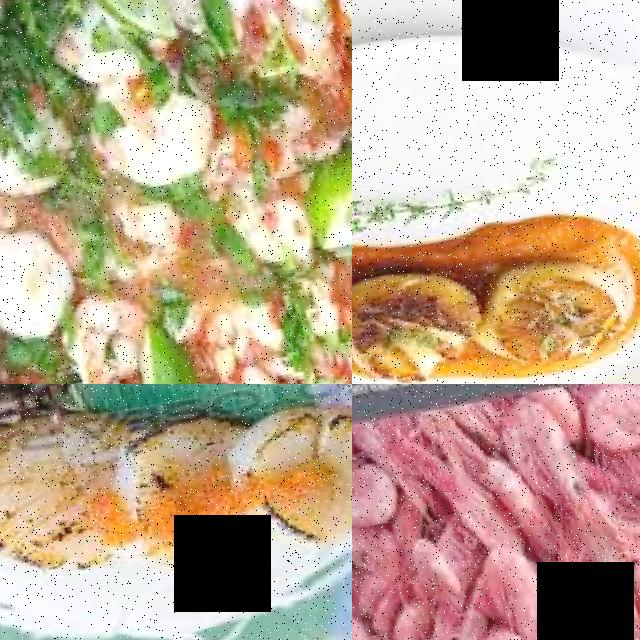lemon: (293, 139, 352, 252), (61, 0, 175, 55), (120, 316, 200, 384)
sea scallops: (474, 240, 637, 372)
shrimp: (490, 384, 594, 517), (472, 540, 549, 634), (521, 581, 605, 640), (573, 384, 640, 457), (461, 617, 543, 640)
